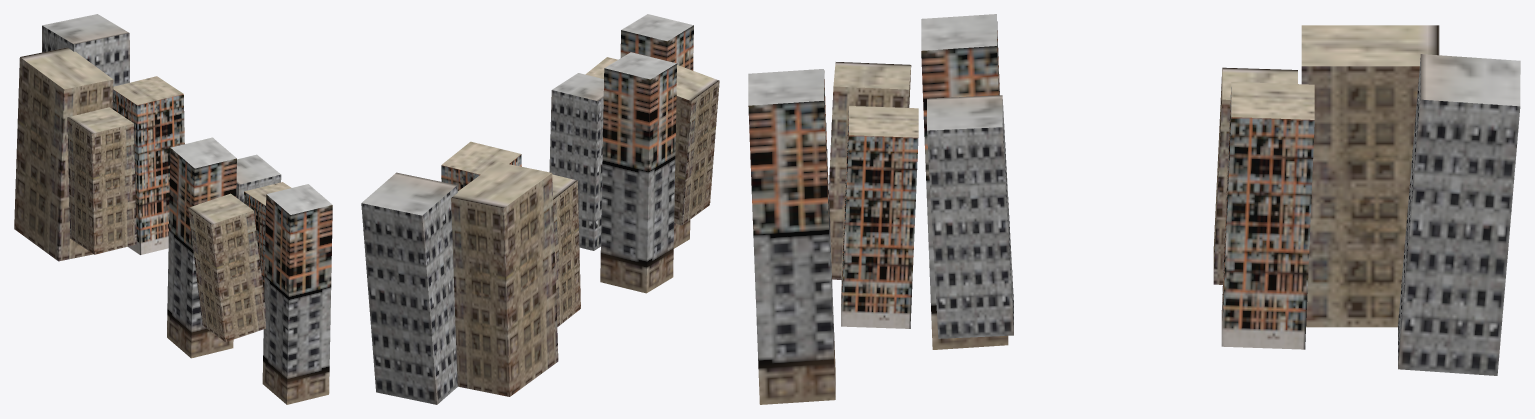
The model's file is Building6.fbx.
The picture shows the model from 3 angles, left to right: view 1: azimuth 30°, elevation 25°; view 2: azimuth 150°, elevation 25°; view 3: azimuth 270°, elevation 25°; orthographic projection. The views are drawn at different scales.
Parts seen in each view (by area): view 1: assets_E_Buildings2Straight; view 2: assets_E_Buildings2Straight; view 3: assets_E_Buildings2Straight.
Boxes of the visible parts, <box> form: assets_E_Buildings2Straight: <box>14,14,332,404</box>; assets_E_Buildings2Straight: <box>361,14,719,404</box>; assets_E_Buildings2Straight: <box>748,14,1520,404</box>.
Bounding box in the file's own units: 6277 × 11567 × 24642.
1 material, 1 textured.
